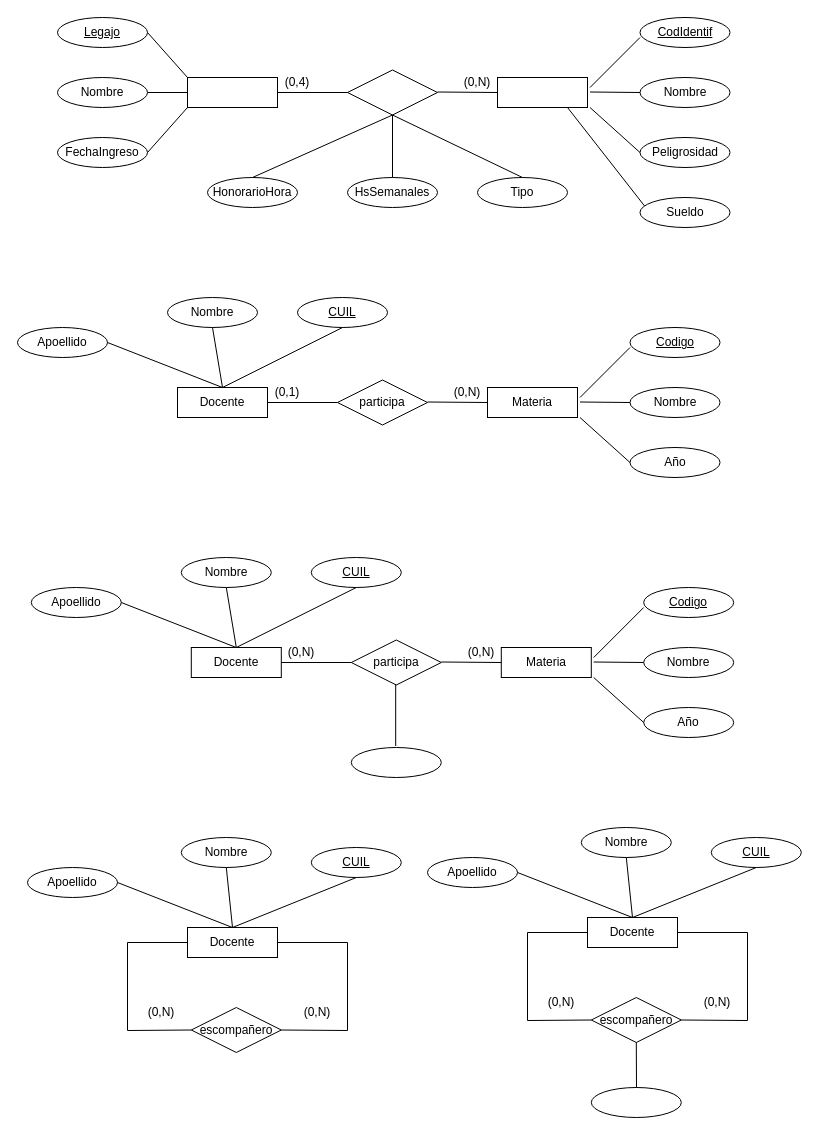
Some shapes in this 819 by 1135 pixel diagram are drawn without their labels. The shapes that lost their labels are listed below. From the top down, each one's centre as x and y in pixels, then its label:
point 232,92: Persona
point 392,92: ocupa
point 542,92: Puesto
point 395,762: Periodo
point 635,1102: Meses
